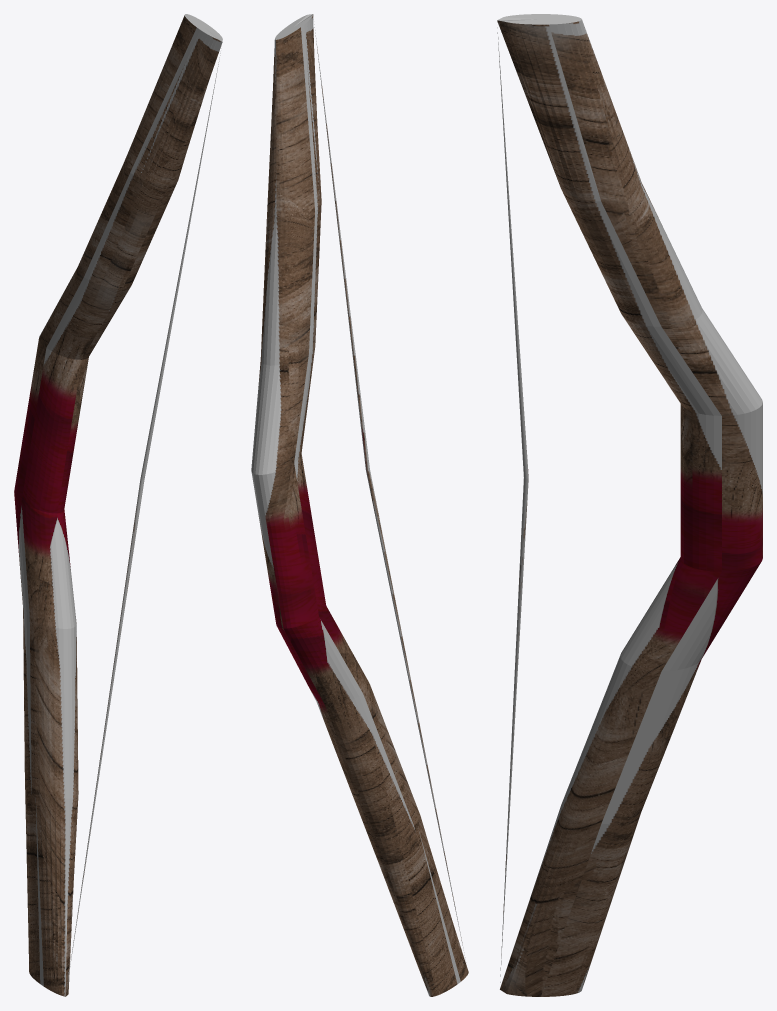
The model's file is Protagonista126.obj.
3 renders of one model, left to right at view 1: azimuth 30°, elevation 25°; view 2: azimuth 150°, elevation 25°; view 3: azimuth 270°, elevation 25°, orthographic. The views are drawn at different scales.
Visible parts, largest first — view 1: Cilindro; view 2: Cilindro; view 3: Cilindro.
Boxes of the visible parts, bbox=[...] form: Cilindro: bbox=[14, 14, 222, 996]; Cilindro: bbox=[251, 14, 468, 996]; Cilindro: bbox=[497, 14, 762, 996].
Size of the model in its own units: 0.1877 by 0.9705 by 0.2204.
Materials: 1 (1 with a texture image).
